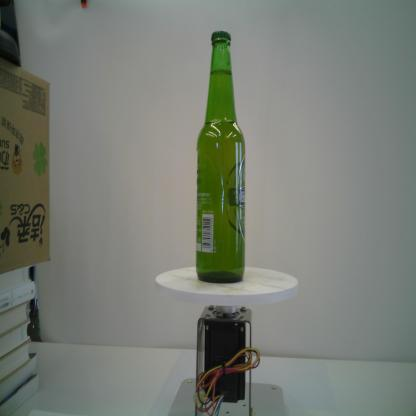Alcohol: (194, 29, 246, 285)
